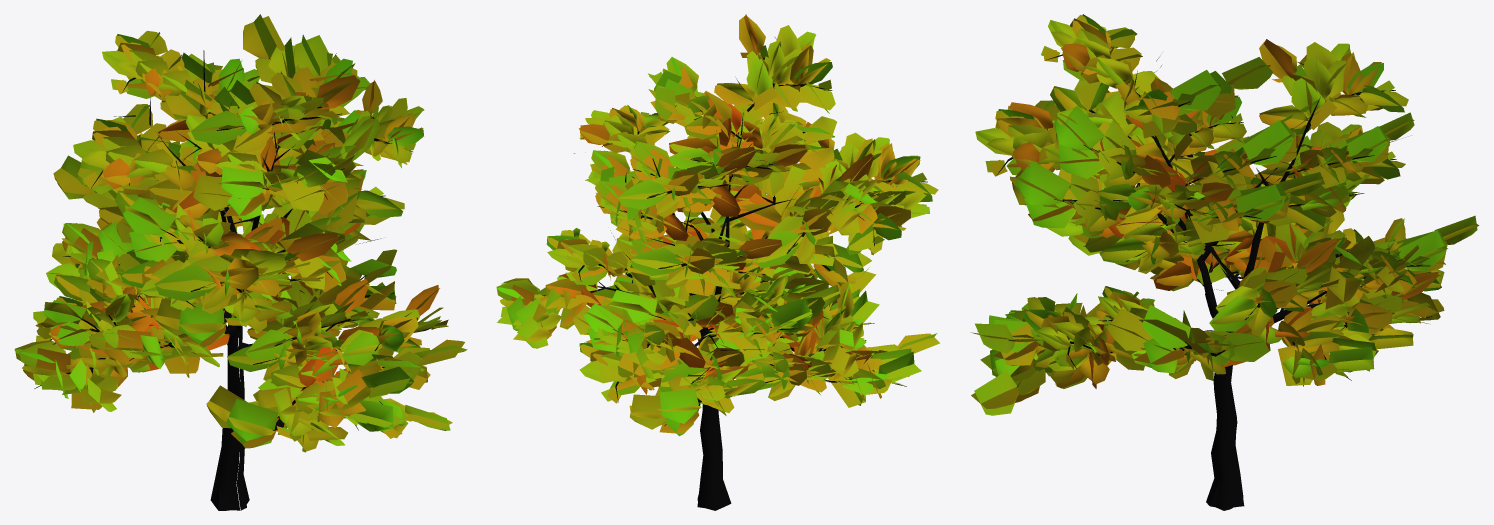
The model's file is Tree_big_2.glb.
3 views of the same model, side by side, from view 1: azimuth 30°, elevation 25°; view 2: azimuth 150°, elevation 25°; view 3: azimuth 270°, elevation 25° (orthographic). The views are drawn at different scales.
Parts seen in each view (by area): view 1: Tree big 2; view 2: Tree big 2; view 3: Tree big 2.
Part boxes in pixels (x1,y1,x2,y2): Tree big 2: [14, 14, 467, 510]; Tree big 2: [496, 14, 939, 510]; Tree big 2: [970, 14, 1479, 510].
Size of what is drawn, in the model's own units: 62.65 by 69.25 by 66.87.
